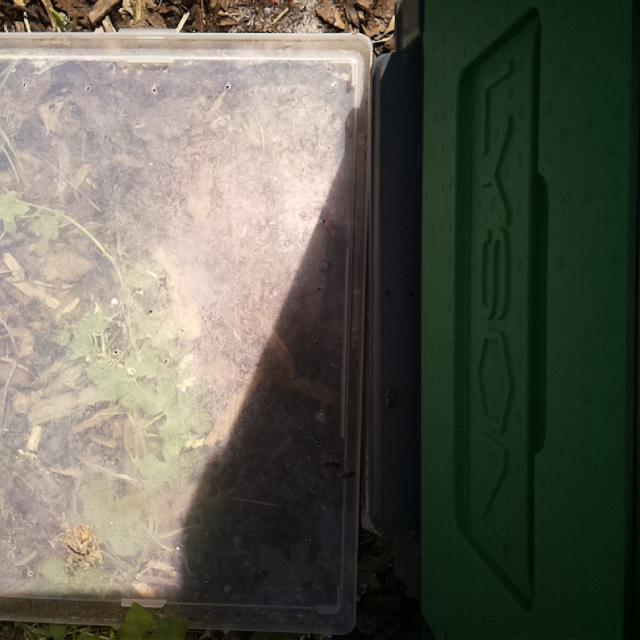worker-bee: (383, 386, 400, 409), (320, 456, 339, 468), (339, 467, 356, 480)
